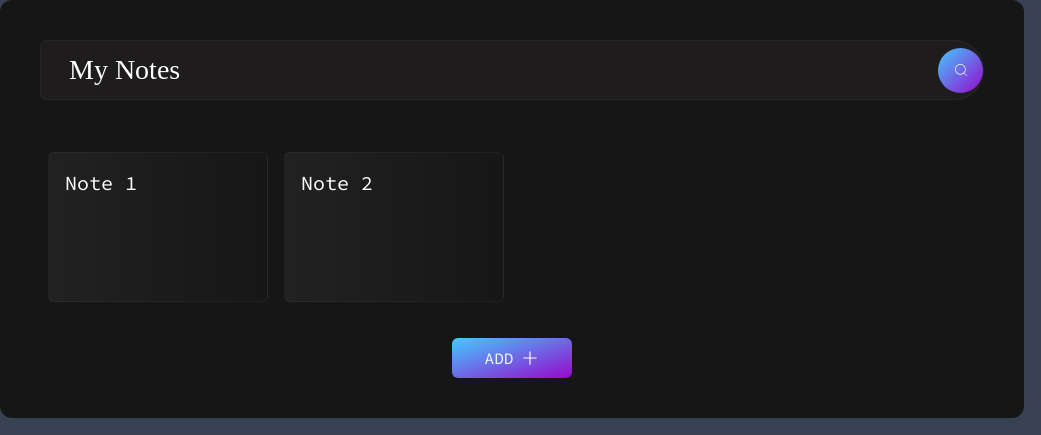
Test case: Notes › filters notes based on search input
The image size is (1041, 435).
Click the button at (960, 70), box x1=938 y1=48 x2=983 y2=92
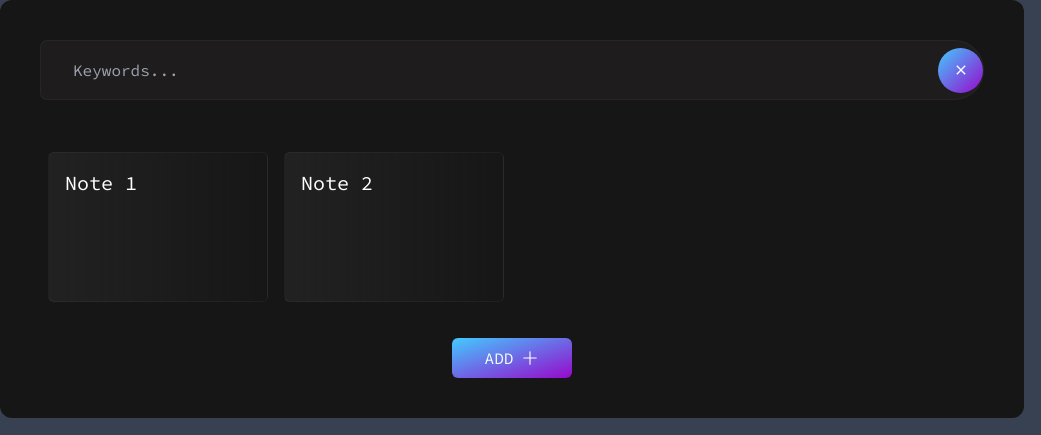
Type "Note 1" into the field with placeholder "Keywords..." at (329, 70), box x1=49 y1=47 x2=609 y2=93
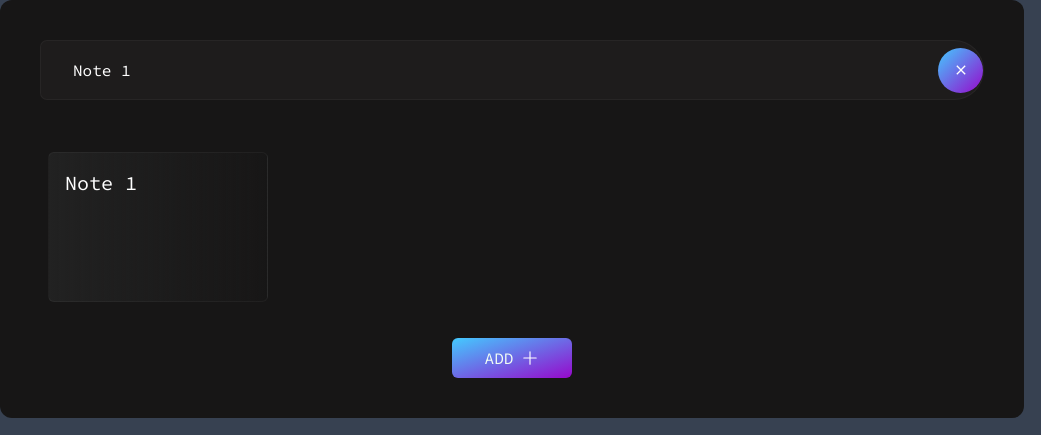
Expected: the heading "Note 1" is shown, x1=65 y1=169 x2=137 y2=197
Expected: the link "Note 2" is gone
